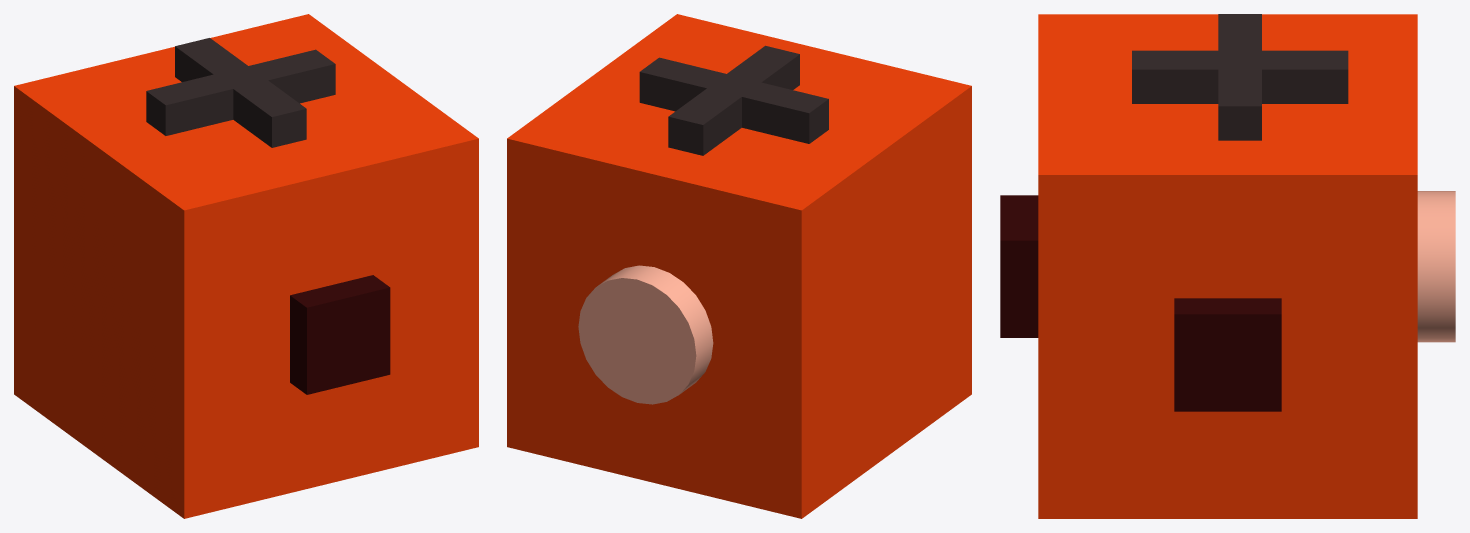
Rendered from Addition_Operator.dae.
3 views of the same model, side by side, from view 1: azimuth 30°, elevation 25°; view 2: azimuth 150°, elevation 25°; view 3: azimuth 270°, elevation 25° (orthographic). The views are drawn at different scales.
Parts seen in each view (by area): view 1: SketchUp (×2), instance_0; view 2: SketchUp (×2), instance_0; view 3: SketchUp (×4), instance_0.
Boxes of the visible parts, bbox=[...] form: SketchUp (×2): bbox=[14, 14, 478, 518]; instance_0: bbox=[146, 38, 335, 147]; SketchUp (×2): bbox=[507, 14, 971, 518]; instance_0: bbox=[639, 45, 828, 155]; SketchUp (×4): bbox=[1000, 14, 1455, 518]; instance_0: bbox=[1132, 14, 1348, 140].
Bounding box in the file's own units: 43.31 × 47.24 × 43.31.
